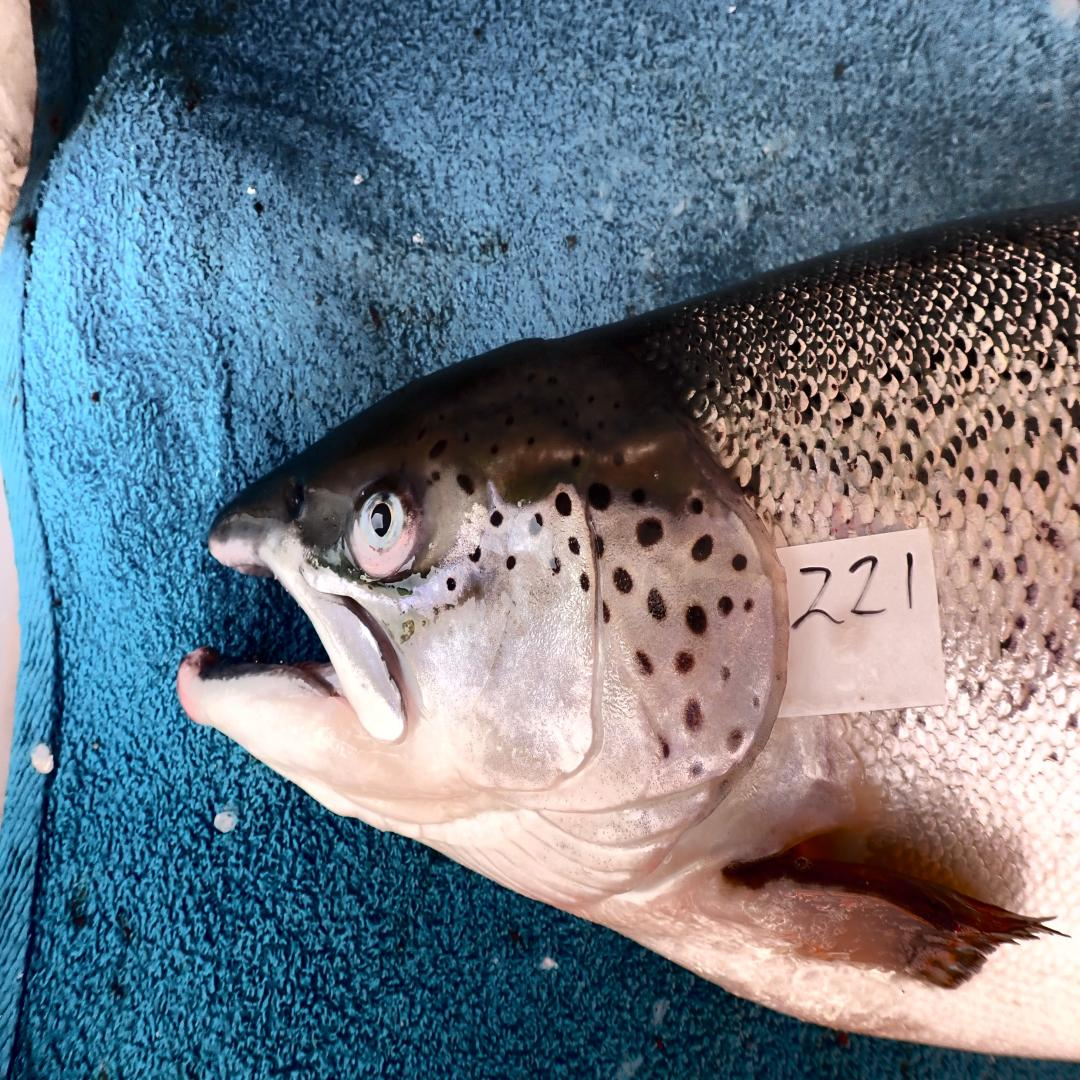spot: (635, 518, 662, 548), (686, 605, 707, 636), (648, 588, 667, 622), (683, 698, 702, 731), (692, 534, 713, 562), (589, 484, 612, 509), (726, 728, 745, 754), (614, 568, 633, 593), (675, 650, 694, 675), (635, 650, 654, 675), (555, 492, 572, 518), (717, 596, 734, 616), (529, 515, 544, 534), (489, 509, 503, 529), (732, 554, 747, 571), (689, 761, 704, 778), (631, 489, 645, 505), (661, 740, 672, 760), (692, 496, 704, 514), (595, 535, 604, 557), (469, 546, 481, 562), (580, 574, 591, 591), (603, 602, 612, 622), (743, 598, 754, 614), (551, 557, 561, 574), (570, 537, 580, 554), (721, 667, 730, 681), (447, 577, 456, 591), (506, 557, 515, 568), (752, 695, 759, 707)
